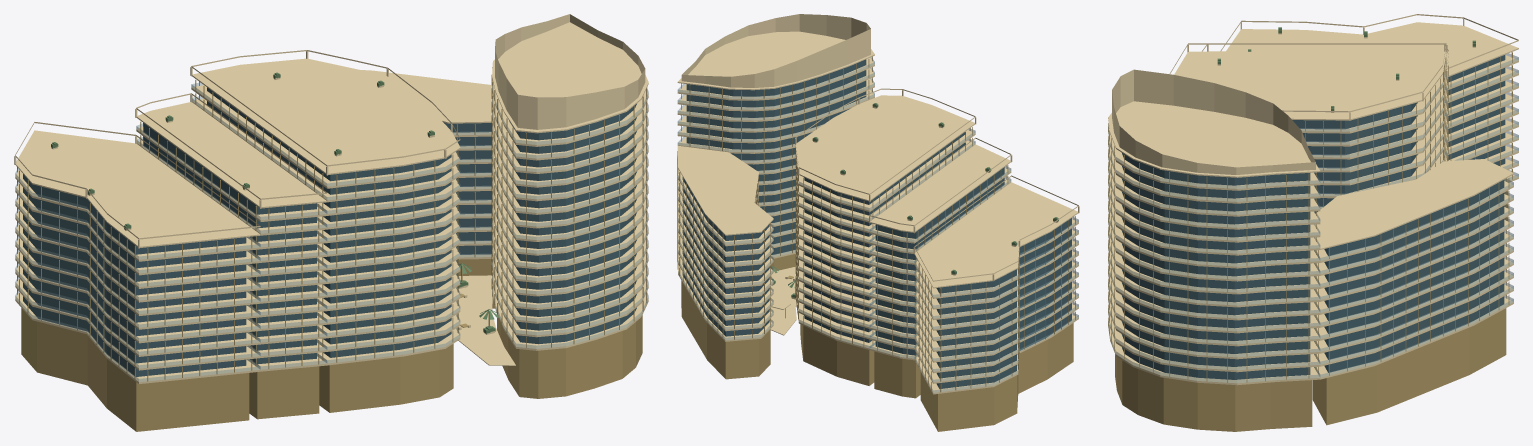
File: fortina.glb
The picture shows the model from 3 angles, left to right: view 1: azimuth 30°, elevation 25°; view 2: azimuth 150°, elevation 25°; view 3: azimuth 270°, elevation 25°; orthographic projection. The views are drawn at different scales.
Visible parts, largest first — view 1: Linker Fluegel 10 Geschosse, Linker Fluegel 14 Geschosse, Rechter Turm 16 Geschosse, Linker Fluegel 12 Geschosse, Rueckwaertiger Hotelfluegel, Plaza und Eingang; view 2: Linker Fluegel 10 Geschosse, Linker Fluegel 14 Geschosse, Rechter Turm 16 Geschosse, Rueckwaertiger Hotelfluegel, Linker Fluegel 12 Geschosse, Plaza und Eingang; view 3: Rechter Turm 16 Geschosse, Rueckwaertiger Hotelfluegel, Linker Fluegel 14 Geschosse, Linker Fluegel 10 Geschosse, Linker Fluegel 12 Geschosse.
Boxes of the visible parts, box(x1,y1,x2,y2) form: Linker Fluegel 10 Geschosse: box(14, 122, 260, 431); Linker Fluegel 14 Geschosse: box(190, 50, 460, 412); Rechter Turm 16 Geschosse: box(491, 14, 648, 398); Linker Fluegel 12 Geschosse: box(135, 93, 327, 419); Rueckwaertiger Hotelfluegel: box(359, 69, 495, 308); Plaza und Eingang: box(456, 263, 515, 365); Linker Fluegel 10 Geschosse: box(913, 175, 1079, 431); Linker Fluegel 14 Geschosse: box(795, 88, 976, 385); Rechter Turm 16 Geschosse: box(677, 14, 874, 271); Rueckwaertiger Hotelfluegel: box(677, 146, 773, 379); Linker Fluegel 12 Geschosse: box(869, 137, 1012, 398); Plaza und Eingang: box(769, 265, 796, 335); Rechter Turm 16 Geschosse: box(1108, 69, 1320, 431); Rueckwaertiger Hotelfluegel: box(1312, 159, 1513, 425); Linker Fluegel 14 Geschosse: box(1169, 43, 1447, 213); Linker Fluegel 10 Geschosse: box(1220, 14, 1518, 220); Linker Fluegel 12 Geschosse: box(1202, 44, 1448, 161).
Size of the model in its own units: 121 by 70.4 by 90.48.
